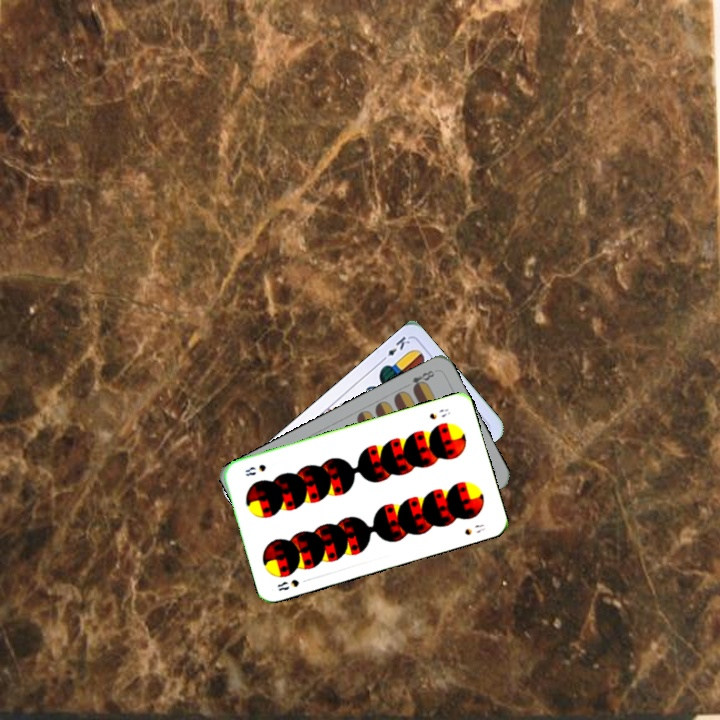E8: (401, 366, 437, 393)
EK: (377, 332, 413, 365)
S8: (273, 575, 302, 593), (425, 404, 453, 422)
